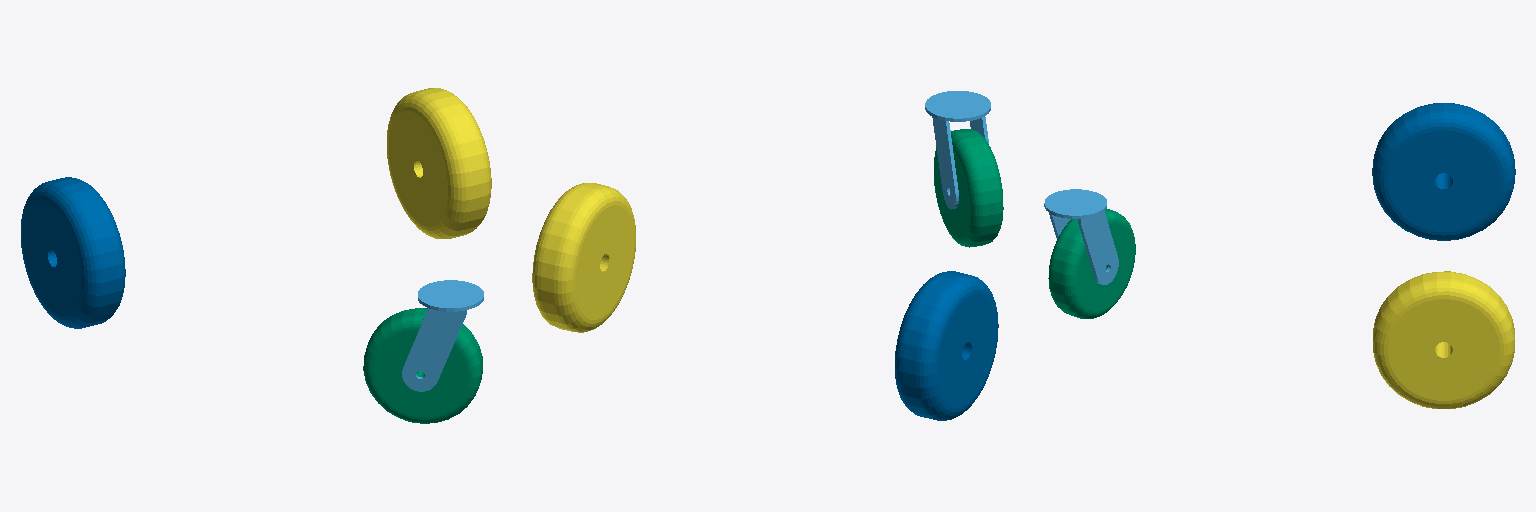
URDF robot description (igvc_test_robot):
<?xml version="1.0" ?>
<!-- =================================================================================== -->
<!-- |    This document was autogenerated by xacro from src/igvc_test_description/urdf/robots/test_robot.urdf.xacro | -->
<!-- |    EDITING THIS FILE BY HAND IS NOT RECOMMENDED                                 | -->
<!-- =================================================================================== -->
<robot name="igvc_test_robot">
  <ros2_control name="igvc_test_bot" type="system">
    <hardware>
      <plugin>grr_hardware/IsaacDriveHardware</plugin>
    </hardware>
    <joint name="right_wheel_joint">
      <command_interface name="velocity">
        <param name="min">-1</param>
        <param name="max">1</param>
      </command_interface>
      <state_interface name="position"/>
      <state_interface name="velocity"/>
    </joint>
    <joint name="left_wheel_joint">
      <command_interface name="velocity">
        <param name="min">-1</param>
        <param name="max">1</param>
      </command_interface>
      <state_interface name="position"/>
      <state_interface name="velocity"/>
    </joint>
  </ros2_control>
  <material name="zed_mat">
    <color rgba="0.8 0.8 0.8 1.0"/>
  </material>
  <material name="zedm_mat">
    <color rgba="0 0 0 1.0"/>
  </material>
  <material name="zed2_mat">
    <color rgba="0.25 0.25 0.25 1.0"/>
  </material>
  <material name="zed2i_mat">
    <color rgba="0.25 0.25 0.25 1.0"/>
  </material>
  <material name="zedx_mat">
    <color rgba="0.25 0.25 0.25 1.0"/>
  </material>
  <material name="zedxm_mat">
    <color rgba="0.25 0.25 0.25 1.0"/>
  </material>
  <material name="zedxhdr_mat">
    <color rgba="0.25 0.25 0.25 1.0"/>
  </material>
  <material name="zedxhdrmini_mat">
    <color rgba="0.25 0.25 0.25 1.0"/>
  </material>
  <material name="zedxhdrmax_mat">
    <color rgba="0.25 0.25 0.25 1.0"/>
  </material>
  <material name="virtual_mat">
    <color rgba="0.25 0.25 0.25 1.0"/>
  </material>
  <material name="zedxonegs_mat">
    <color rgba="0.25 0.25 0.25 1.0"/>
  </material>
  <material name="zedxone4k_mat">
    <color rgba="0.25 0.25 0.25 1.0"/>
  </material>
  <material name="zedxonehdr_mat">
    <color rgba="0.25 0.25 0.25 1.0"/>
  </material>
  <joint name="caster_raceway_joint" type="continuous">
    <origin rpy="0. 0. 0." xyz="0.0011449 -0.3728886 -0.0307033"/>
    <parent link="chassis_link"/>
    <child link="caster_raceway_link"/>
    <axis xyz="0. 0. 1."/>
  </joint>
  <joint name="caster_wheel_joint" type="continuous">
    <origin rpy="-1.5707961 -0.0862496 2.4779847" xyz="-0.0452015 0.004609 -0.1223279"/>
    <parent link="caster_raceway_link"/>
    <child link="caster_wheel_link"/>
    <axis xyz="0. 0. 1."/>
  </joint>
  <joint name="left_wheel_joint" type="continuous">
    <origin rpy="0. 0. 0." xyz="0.2844359 0.1500906 -0.1274171"/>
    <parent link="chassis_link"/>
    <child link="left_wheel_link"/>
    <axis xyz="1. 0. 0."/>
  </joint>
  <joint name="right_wheel_joint" type="continuous">
    <origin rpy="0. 0. 0." xyz="-0.2918941 0.1492591 -0.1296445"/>
    <parent link="chassis_link"/>
    <child link="right_wheel_link"/>
    <axis xyz="1. 0. 0."/>
  </joint>
  <joint name="rootJoint" type="fixed">
    <origin rpy="0. 0. -0." xyz="0. 0. 0."/>
    <parent link="base_link"/>
    <child link="chassis_link"/>
  </joint>
  <link name="base_link"/>
  <link name="caster_raceway_link">
    <inertial>
      <origin rpy="0. 0. 0." xyz="-0.0118137 0.0087306 -0.0584325"/>
      <mass value="0.2597675"/>
      <inertia ixx="0.0003673" ixy="0.0001647" ixz="0." iyy="0.0004492" iyz="-0." izz="0.0006678"/>
    </inertial>
    <visual>
      <origin rpy="0. 0. -0.663608" xyz="-0.0011449 0.0003886 -0.0088217"/>
      <geometry>
        <mesh filename="package://igvc_test_description/meshes/caster_raceway_link_Part_2_Part_2.obj" scale="1. 1. 1."/>
      </geometry>
    </visual>
    <collision>
      <origin rpy="0. 0. -0.663608" xyz="-0.0011449 0.0003886 -0.0088217"/>
      <geometry>
        <mesh filename="package://igvc_test_description/meshes/caster_raceway_link_Part_2_Part_2.obj" scale="1. 1. 1."/>
      </geometry>
    </collision>
  </link>
  <link name="caster_wheel_link">
    <inertial>
      <origin rpy="0. 0. 0." xyz="-0. -0. -0.0238125"/>
      <mass value="1.0005643"/>
      <inertia ixx="0.0017247" ixy="-0." ixz="0." iyy="0.0030953" iyz="-0." izz="0.0017247"/>
    </inertial>
    <visual>
      <origin rpy="-1.5707965 -0.0000001 0. " xyz="0.0373062 0.1135063 -0.0238125"/>
      <geometry>
        <mesh filename="package://igvc_test_description/meshes/caster_wheel_link__in_Caster__in_Caster.obj" scale="1. 1. 1."/>
      </geometry>
    </visual>
    <collision>
      <origin rpy="-1.5707965 -0.0000001 0. " xyz="0.0373062 0.1135063 -0.0238125"/>
      <geometry>
        <mesh filename="package://igvc_test_description/meshes/caster_wheel_link__in_Caster__in_Caster.obj" scale="1. 1. 1."/>
      </geometry>
    </collision>
  </link>
  <link name="left_wheel_link">
    <inertial>
      <origin rpy="0. 0. 0." xyz="-0.0010859 -0.0000906 -0.0010079"/>
      <mass value="2.1118586"/>
      <inertia ixx="0.0059185" ixy="-0." ixz="-0." iyy="0.0086441" iyz="0.0022525" izz="0.00778"/>
    </inertial>
    <visual>
      <origin rpy="0. 0.8801533 1.5707964" xyz="-0.0010859 -0.0000906 -0.0010079"/>
      <geometry>
        <mesh filename="package://igvc_test_description/meshes/left_wheel_link__in_Wheel_Stand_In_01__in_Wheel_Stand_In.obj" scale="1. 1. 1."/>
      </geometry>
    </visual>
    <collision>
      <origin rpy="0. 0.8801533 1.5707964" xyz="-0.0010859 -0.0000906 -0.0010079"/>
      <geometry>
        <mesh filename="package://igvc_test_description/meshes/left_wheel_link__in_Wheel_Stand_In_01__in_Wheel_Stand_In.obj" scale="1. 1. 1."/>
      </geometry>
    </collision>
  </link>
  <link name="right_wheel_link">
    <inertial>
      <origin rpy="0. 0. 0." xyz="0.0085441 0.0007409 0.0012195"/>
      <mass value="2.1118586"/>
      <inertia ixx="0.0059185" ixy="-0." ixz="0." iyy="0.0059185" iyz="-0." izz="0.0105056"/>
    </inertial>
    <visual>
      <origin rpy="3.1415927 0. -1.5707964" xyz="0.0085441 0.0007409 0.0012195"/>
      <geometry>
        <mesh filename="package://igvc_test_description/meshes/right_wheel_link__in_Wheel_Stand_In_01__in_Wheel_Stand_In.obj" scale="1. 1. 1."/>
      </geometry>
    </visual>
    <collision>
      <origin rpy="3.1415927 0. -1.5707964" xyz="0.0085441 0.0007409 0.0012195"/>
      <geometry>
        <mesh filename="package://igvc_test_description/meshes/right_wheel_link__in_Wheel_Stand_In_01__in_Wheel_Stand_In.obj" scale="1. 1. 1."/>
      </geometry>
    </collision>
  </link>
  <link name="chassis_link">
    <inertial>
      <origin rpy="0. 0. 0." xyz="0. 0. 0."/>
      <mass value="20."/>
      <inertia ixx="0.001" ixy="0." ixz="0." iyy="0.001" iyz="0." izz="0.001"/>
    </inertial>
    <visual>
      <origin rpy="0. 0. 0." xyz="0. 0. 0."/>
      <geometry>
        <mesh filename="package://igvc_test_description/meshes/_FE2CBA3_2B86_49A6_86C6_46C335366A6A.obj" scale="1. 1. 1."/>
      </geometry>
    </visual>
    <collision>
      <origin rpy="0. 0. 0." xyz="0. 0. 0."/>
      <geometry>
        <mesh filename="package://igvc_test_description/meshes/_FE2CBA3_2B86_49A6_86C6_46C335366A6A.obj" scale="1. 1. 1."/>
      </geometry>
    </collision>
  </link>
  <!-- Camera mounting point (the threaded screw hole in the bottom) -->
  <link name="left_zed_camera_x_camera_link"/>
  <!-- Camera Center -->
  <link name="left_zed_camera_x_camera_center">
    <visual>
      <origin rpy="0 0 0" xyz="0.0 0 -0.016"/>
      <geometry>
        <mesh filename="package://zed_description/meshes/zedx.stl"/>
      </geometry>
      <material name="zedx_mat"/>
    </visual>
    <collision>
      <origin rpy="0 0 0" xyz="0.0 0 -0.016"/>
      <geometry>
        <mesh filename="package://zed_description/meshes/zedx.stl"/>
      </geometry>
    </collision>
  </link>
  <joint name="left_zed_camera_x_camera_center_joint" type="fixed">
    <parent link="left_zed_camera_x_camera_link"/>
    <child link="left_zed_camera_x_camera_center"/>
    <origin rpy="0 0.0 0" xyz="0 0 0.016"/>
  </joint>
  <!-- Left Camera -->
  <link name="left_zed_camera_x_left_camera_frame">
  </link>
  <joint name="left_zed_camera_x_left_camera_joint" type="fixed">
    <parent link="left_zed_camera_x_camera_center"/>
    <child link="left_zed_camera_x_left_camera_frame"/>
    <origin rpy="0 0 0" xyz="-0.01 0.06 0"/>
  </joint>
  <link name="left_zed_camera_x_left_camera_optical_frame"/>
  <joint name="left_zed_camera_x_left_camera_optical_joint" type="fixed">
    <origin rpy="-1.5707963267948966 0.0 -1.5707963267948966" xyz="0 0 0"/>
    <parent link="left_zed_camera_x_left_camera_frame"/>
    <child link="left_zed_camera_x_left_camera_optical_frame"/>
  </joint>
  <!-- Right Camera -->
  <link name="left_zed_camera_x_right_camera_frame">
  </link>
  <joint name="left_zed_camera_x_right_camera_joint" type="fixed">
    <parent link="left_zed_camera_x_camera_center"/>
    <child link="left_zed_camera_x_right_camera_frame"/>
    <origin rpy="0 0 0" xyz="-0.01 -0.06 0"/>
  </joint>
  <link name="left_zed_camera_x_right_camera_optical_frame"/>
  <joint name="left_zed_camera_x_right_camera_optical_joint" type="fixed">
    <origin rpy="-1.5707963267948966 0.0 -1.5707963267948966" xyz="0 0 0"/>
    <parent link="left_zed_camera_x_right_camera_frame"/>
    <child link="left_zed_camera_x_right_camera_optical_frame"/>
  </joint>
  <link name="left_zed_camera_x_gnss_link"/>
  <joint name="left_zed_camera_x_gnss_joint" type="fixed">
    <parent link="left_zed_camera_x_camera_link"/>
    <child link="left_zed_camera_x_gnss_link"/>
    <gnss_origin rpy="0 0 0" xyz="0 0 0"/>
  </joint>
  <joint name="left_zed_camera_x_joint" type="fixed">
    <parent link="chassis_link"/>
    <child link="left_zed_camera_x_camera_link"/>
    <origin rpy="0 0 0" xyz="0.2 -0.1 1.57"/>
  </joint>
  <!-- Camera mounting point (the threaded screw hole in the bottom) -->
  <link name="front_zed_camera_x_camera_link"/>
  <!-- Camera Center -->
  <link name="front_zed_camera_x_camera_center">
    <visual>
      <origin rpy="0 0 0" xyz="0.0 0 -0.016"/>
      <geometry>
        <mesh filename="package://zed_description/meshes/zedx.stl"/>
      </geometry>
      <material name="zedx_mat"/>
    </visual>
    <collision>
      <origin rpy="0 0 0" xyz="0.0 0 -0.016"/>
      <geometry>
        <mesh filename="package://zed_description/meshes/zedx.stl"/>
      </geometry>
    </collision>
  </link>
  <joint name="front_zed_camera_x_camera_center_joint" type="fixed">
    <parent link="front_zed_camera_x_camera_link"/>
    <child link="front_zed_camera_x_camera_center"/>
    <origin rpy="0 0.0 0" xyz="0 0 0.016"/>
  </joint>
  <!-- Left Camera -->
  <link name="front_zed_camera_x_left_camera_frame">
  </link>
  <joint name="front_zed_camera_x_left_camera_joint" type="fixed">
    <parent link="front_zed_camera_x_camera_center"/>
    <child link="front_zed_camera_x_left_camera_frame"/>
    <origin rpy="0 0 0" xyz="-0.01 0.06 0"/>
  </joint>
  <link name="front_zed_camera_x_left_camera_optical_frame"/>
  <joint name="front_zed_camera_x_left_camera_optical_joint" type="fixed">
    <origin rpy="-1.5707963267948966 0.0 -1.5707963267948966" xyz="0 0 0"/>
    <parent link="front_zed_camera_x_left_camera_frame"/>
    <child link="front_zed_camera_x_left_camera_optical_frame"/>
  </joint>
  <!-- Right Camera -->
  <link name="front_zed_camera_x_right_camera_frame">
  </link>
  <joint name="front_zed_camera_x_right_camera_joint" type="fixed">
    <parent link="front_zed_camera_x_camera_center"/>
    <child link="front_zed_camera_x_right_camera_frame"/>
    <origin rpy="0 0 0" xyz="-0.01 -0.06 0"/>
  </joint>
  <link name="front_zed_camera_x_right_camera_optical_frame"/>
  <joint name="front_zed_camera_x_right_camera_optical_joint" type="fixed">
    <origin rpy="-1.5707963267948966 0.0 -1.5707963267948966" xyz="0 0 0"/>
    <parent link="front_zed_camera_x_right_camera_frame"/>
    <child link="front_zed_camera_x_right_camera_optical_frame"/>
  </joint>
  <link name="front_zed_camera_x_gnss_link"/>
  <joint name="front_zed_camera_x_gnss_joint" type="fixed">
    <parent link="front_zed_camera_x_camera_link"/>
    <child link="front_zed_camera_x_gnss_link"/>
    <gnss_origin rpy="0 0 0" xyz="0 0 0"/>
  </joint>
  <joint name="front_zed_camera_x_joint" type="fixed">
    <parent link="chassis_link"/>
    <child link="front_zed_camera_x_camera_link"/>
    <origin rpy="0 0 0" xyz="0.2 0 0"/>
  </joint>
  <!-- Camera mounting point (the threaded screw hole in the bottom) -->
  <link name="right_zed_camera_x_camera_link"/>
  <!-- Camera Center -->
  <link name="right_zed_camera_x_camera_center">
    <visual>
      <origin rpy="0 0 0" xyz="0.0 0 -0.016"/>
      <geometry>
        <mesh filename="package://zed_description/meshes/zedx.stl"/>
      </geometry>
      <material name="zedx_mat"/>
    </visual>
    <collision>
      <origin rpy="0 0 0" xyz="0.0 0 -0.016"/>
      <geometry>
        <mesh filename="package://zed_description/meshes/zedx.stl"/>
      </geometry>
    </collision>
  </link>
  <joint name="right_zed_camera_x_camera_center_joint" type="fixed">
    <parent link="right_zed_camera_x_camera_link"/>
    <child link="right_zed_camera_x_camera_center"/>
    <origin rpy="0 0.0 0" xyz="0 0 0.016"/>
  </joint>
  <!-- Left Camera -->
  <link name="right_zed_camera_x_left_camera_frame">
  </link>
  <joint name="right_zed_camera_x_left_camera_joint" type="fixed">
    <parent link="right_zed_camera_x_camera_center"/>
    <child link="right_zed_camera_x_left_camera_frame"/>
    <origin rpy="0 0 0" xyz="-0.01 0.06 0"/>
  </joint>
  <link name="right_zed_camera_x_left_camera_optical_frame"/>
  <joint name="right_zed_camera_x_left_camera_optical_joint" type="fixed">
    <origin rpy="-1.5707963267948966 0.0 -1.5707963267948966" xyz="0 0 0"/>
    <parent link="right_zed_camera_x_left_camera_frame"/>
    <child link="right_zed_camera_x_left_camera_optical_frame"/>
  </joint>
  <!-- Right Camera -->
  <link name="right_zed_camera_x_right_camera_frame">
  </link>
  <joint name="right_zed_camera_x_right_camera_joint" type="fixed">
    <parent link="right_zed_camera_x_camera_center"/>
    <child link="right_zed_camera_x_right_camera_frame"/>
    <origin rpy="0 0 0" xyz="-0.01 -0.06 0"/>
  </joint>
  <link name="right_zed_camera_x_right_camera_optical_frame"/>
  <joint name="right_zed_camera_x_right_camera_optical_joint" type="fixed">
    <origin rpy="-1.5707963267948966 0.0 -1.5707963267948966" xyz="0 0 0"/>
    <parent link="right_zed_camera_x_right_camera_frame"/>
    <child link="right_zed_camera_x_right_camera_optical_frame"/>
  </joint>
  <link name="right_zed_camera_x_gnss_link"/>
  <joint name="right_zed_camera_x_gnss_joint" type="fixed">
    <parent link="right_zed_camera_x_camera_link"/>
    <child link="right_zed_camera_x_gnss_link"/>
    <gnss_origin rpy="0 0 0" xyz="0 0 0"/>
  </joint>
  <joint name="right_zed_camera_x_joint" type="fixed">
    <parent link="chassis_link"/>
    <child link="right_zed_camera_x_camera_link"/>
    <origin rpy="0 0 0" xyz="0.2 0.1 -1.57"/>
  </joint>
</robot>

--- What the picture shows (computed from the rendered views, not written in the file) ---
3 views of the same robot in one strip: view 1: azimuth 30°, elevation 25°; view 2: azimuth 150°, elevation 25°; view 3: azimuth 270°, elevation 25° (orthographic).
Model igvc_test_robot with 27 links and 26 joints (4 continuous, 22 fixed), rooted at base_link, posed every joint at zero.
Visible links, largest first — view 1: left_wheel_link, right_wheel_link, caster_wheel_link, caster_raceway_link; view 2: left_wheel_link, right_wheel_link, caster_wheel_link, caster_raceway_link; view 3: right_wheel_link, left_wheel_link, caster_wheel_link, caster_raceway_link.
Boxes of the visible links, box(x1,y1,x2,y2) form: left_wheel_link: box(387, 88, 491, 238); right_wheel_link: box(21, 177, 125, 328); caster_wheel_link: box(363, 308, 482, 423); caster_raceway_link: box(402, 280, 483, 391); left_wheel_link: box(532, 183, 635, 332); right_wheel_link: box(895, 271, 998, 420); caster_wheel_link: box(934, 129, 1003, 247); caster_raceway_link: box(925, 91, 990, 209); right_wheel_link: box(1372, 103, 1515, 240); left_wheel_link: box(1373, 271, 1514, 408); caster_wheel_link: box(1048, 209, 1135, 318); caster_raceway_link: box(1044, 189, 1118, 284).
Bounding box of the posed robot: 0.6307 × 0.6688 × 0.2064 m (x, y, z).
Meshes: 6 distinct files referenced, 4 mesh visuals loaded (4 OBJ); not drawn: 4 (reference not matched to a file when rendering).
